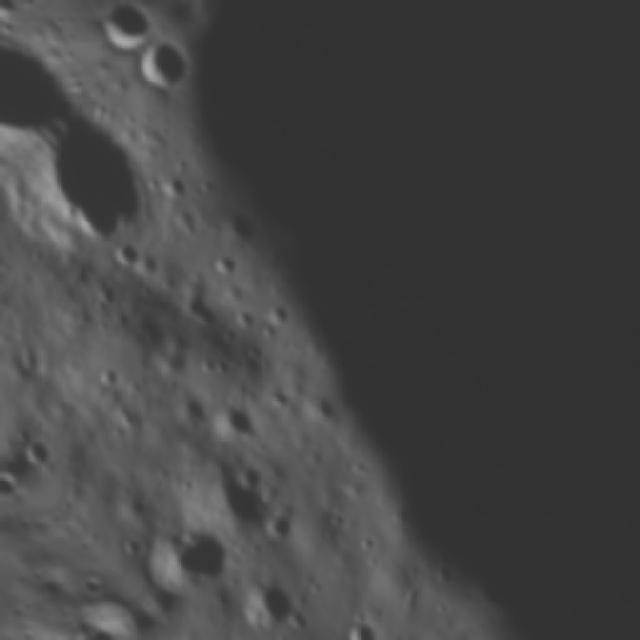crater: (0, 92, 178, 270), (132, 503, 251, 622), (187, 441, 298, 552), (124, 26, 204, 106), (231, 567, 303, 639), (203, 392, 266, 456), (170, 279, 232, 341), (248, 288, 308, 347), (168, 388, 218, 438), (256, 504, 306, 553), (15, 432, 62, 479), (226, 454, 272, 500), (201, 246, 247, 292), (83, 355, 129, 400), (279, 598, 327, 640), (330, 607, 389, 640), (5, 418, 44, 457), (262, 379, 300, 418), (116, 530, 153, 567), (348, 528, 383, 563), (0, 298, 14, 380), (228, 308, 261, 342), (141, 590, 165, 616), (0, 182, 15, 220)
